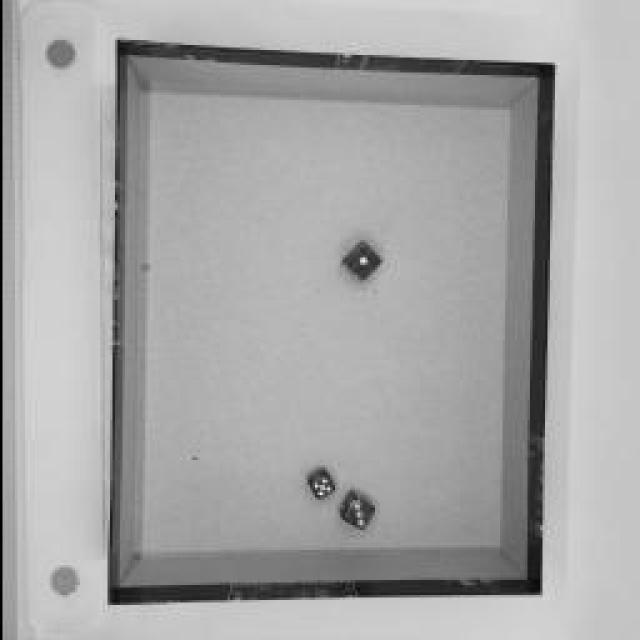dice_1: (339, 245, 379, 280)
dice_3: (335, 490, 370, 532)
dice_5: (303, 468, 335, 502)
